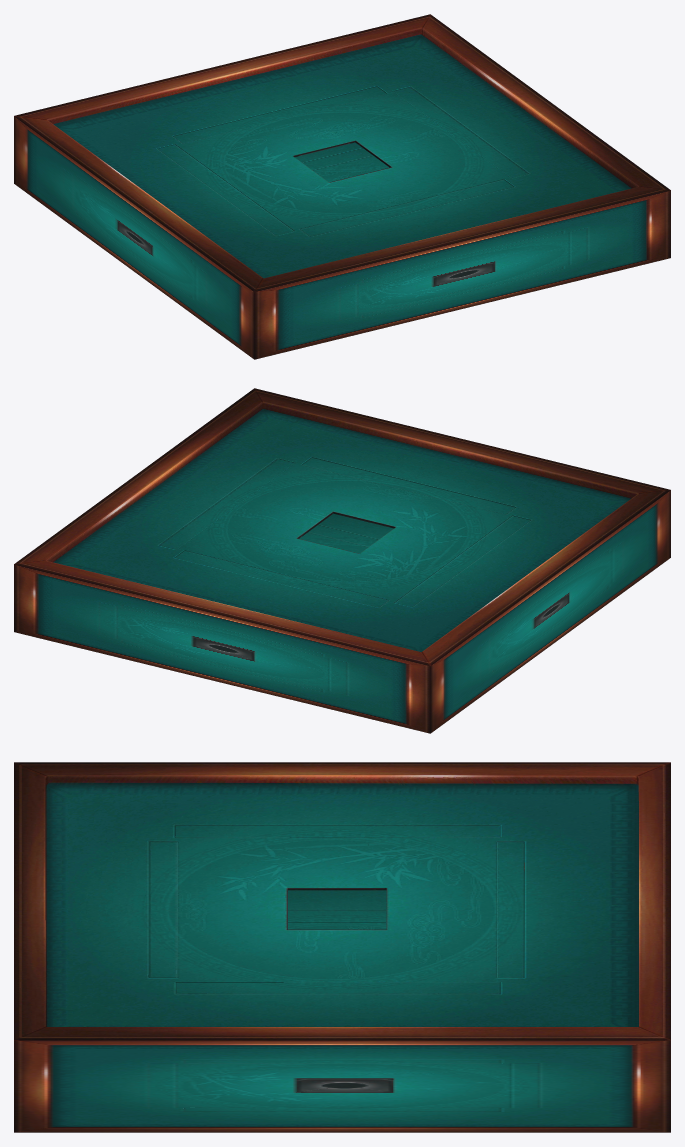
Rendered from majiangzhuo.fbx.
3 renders of one model, top to bottom at view 1: azimuth 30°, elevation 25°; view 2: azimuth 150°, elevation 25°; view 3: azimuth 270°, elevation 25°, orthographic. The views are drawn at different scales.
Parts seen in each view (by area): view 1: polySurface64, polySurface43, polySurface44, polySurface45, polySurface42; view 2: polySurface64, polySurface43, polySurface44, polySurface45, polySurface42; view 3: polySurface64, polySurface43, polySurface44, polySurface45, polySurface42.
Part boxes in pixels (x1=…): polySurface64: x1=14, y1=14, x2=670, y2=359; polySurface43: x1=158, y1=144, x2=293, y2=235; polySurface44: x1=300, y1=179, x2=513, y2=236; polySurface45: x1=393, y1=87, x2=528, y2=177; polySurface42: x1=173, y1=86, x2=386, y2=143; polySurface64: x1=14, y1=388, x2=670, y2=733; polySurface43: x1=395, y1=516, x2=530, y2=606; polySurface44: x1=302, y1=457, x2=515, y2=514; polySurface45: x1=160, y1=458, x2=294, y2=549; polySurface42: x1=175, y1=551, x2=388, y2=607; polySurface64: x1=14, y1=762, x2=670, y2=1132; polySurface43: x1=175, y1=825, x2=499, y2=837; polySurface44: x1=149, y1=842, x2=177, y2=977; polySurface45: x1=175, y1=982, x2=499, y2=993; polySurface42: x1=497, y1=842, x2=524, y2=977.
Bounding box in the file's own units: 29.13 × 4.53 × 29.13.
